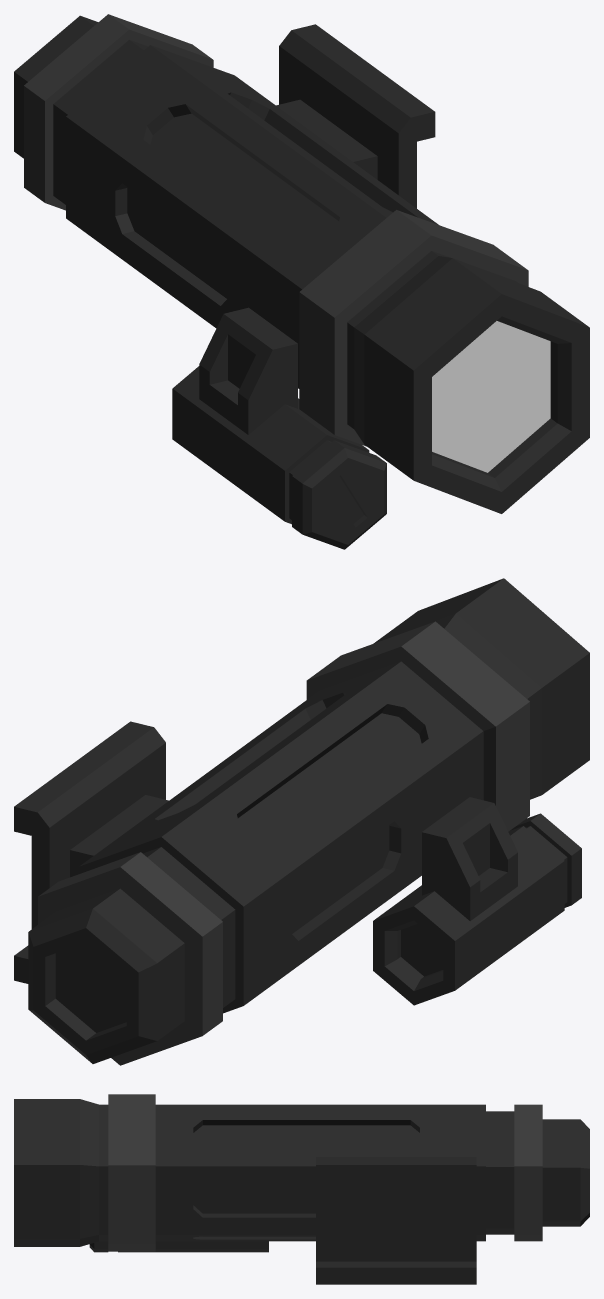
File: Light_D_Right.fbx
The picture shows the model from 3 angles, top to bottom: view 1: azimuth 30°, elevation 25°; view 2: azimuth 150°, elevation 25°; view 3: azimuth 270°, elevation 25°; orthographic projection. The views are drawn at different scales.
Visible parts, largest first — view 1: Light_D_Right; view 2: Light_D_Right; view 3: Light_D_Right.
Part boxes in pixels (x1=…): Light_D_Right: x1=14, y1=14, x2=589, y2=549; Light_D_Right: x1=14, y1=578, x2=589, y2=1065; Light_D_Right: x1=14, y1=1094, x2=589, y2=1284.
Size of the model in its own units: 0.0612 by 0.0555 by 0.1525.
